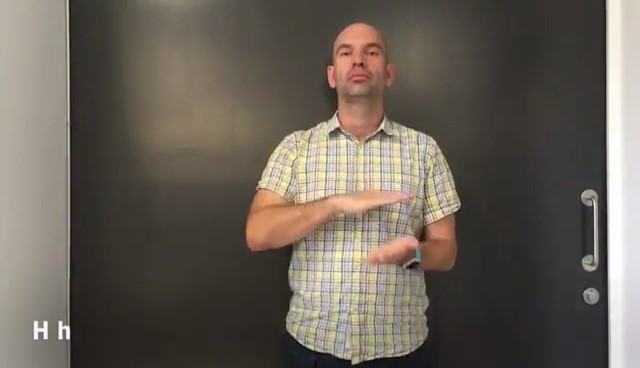H: (322, 175, 451, 281)
